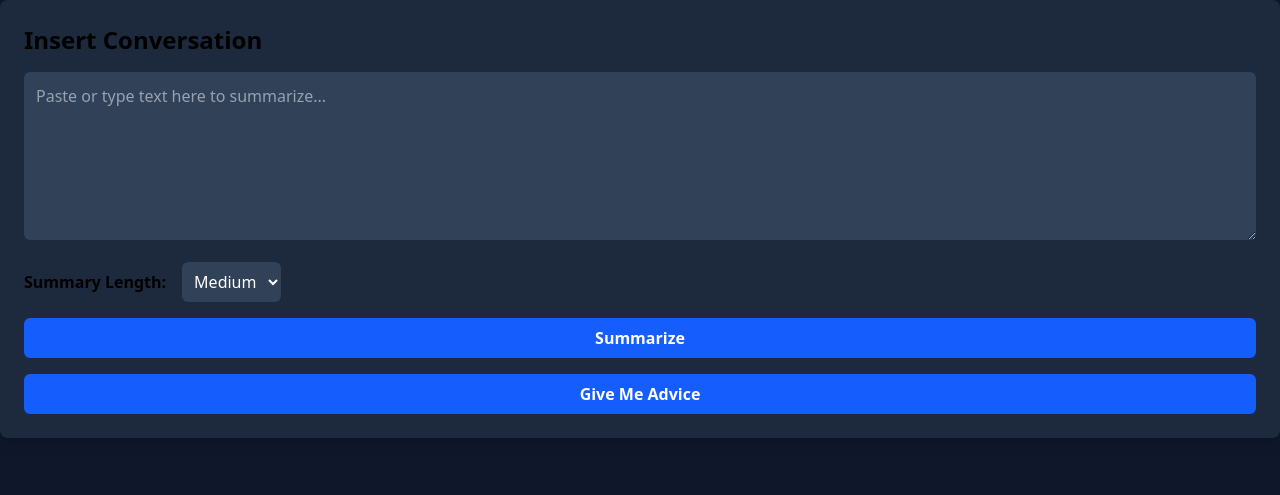
Test: Summarizer Component › shows an error if the button is clicked with no text
Click the button "Summarize": [640, 338] box left=24, top=318, right=1256, bottom=358
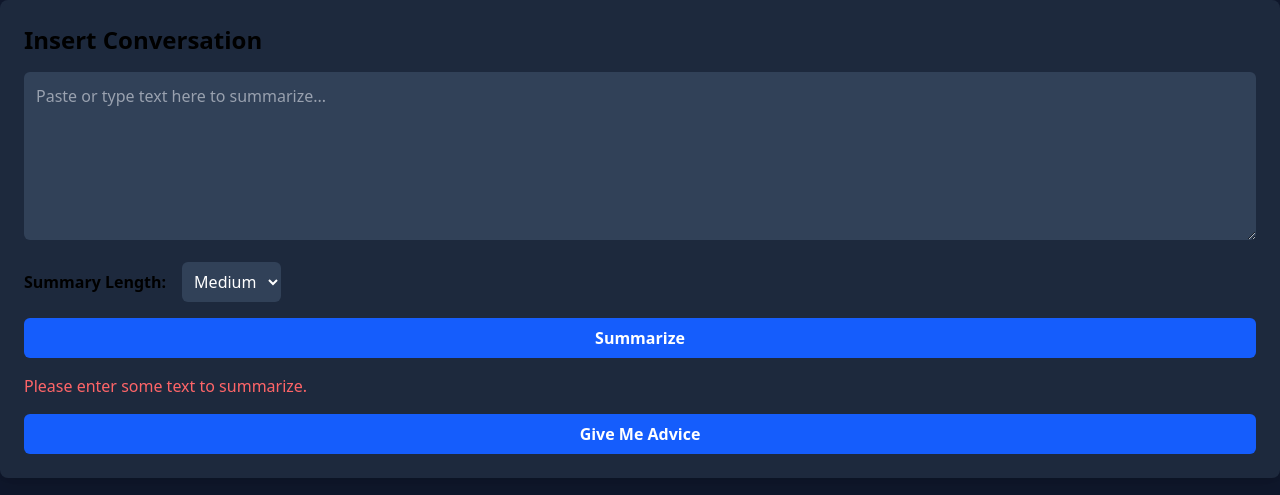
Now the text "Please enter some text to summarize." is shown, box left=24, top=375, right=307, bottom=397
